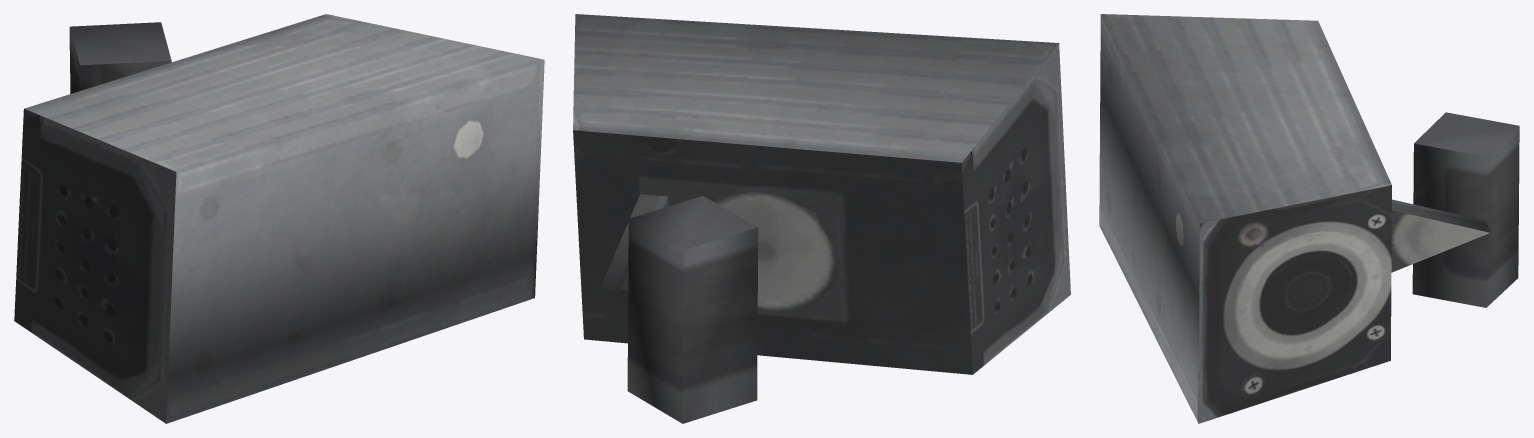
The model's file is t5_weapon_camera_head_world_LOD2.obj.
3 views of the same model, side by side, from view 1: azimuth 30°, elevation 25°; view 2: azimuth 150°, elevation 25°; view 3: azimuth 270°, elevation 25° (orthographic). The views are drawn at different scales.
Visible parts, largest first — view 1: mtl_t5_weapon_camera_spike; view 2: mtl_t5_weapon_camera_spike; view 3: mtl_t5_weapon_camera_spike.
Boxes of the visible parts, x1=… form: mtl_t5_weapon_camera_spike: x1=14, y1=14, x2=544, y2=423; mtl_t5_weapon_camera_spike: x1=573, y1=14, x2=1070, y2=423; mtl_t5_weapon_camera_spike: x1=1099, y1=14, x2=1519, y2=423.
Bounding box in the file's own units: 25.32 × 14.02 × 22.85.
